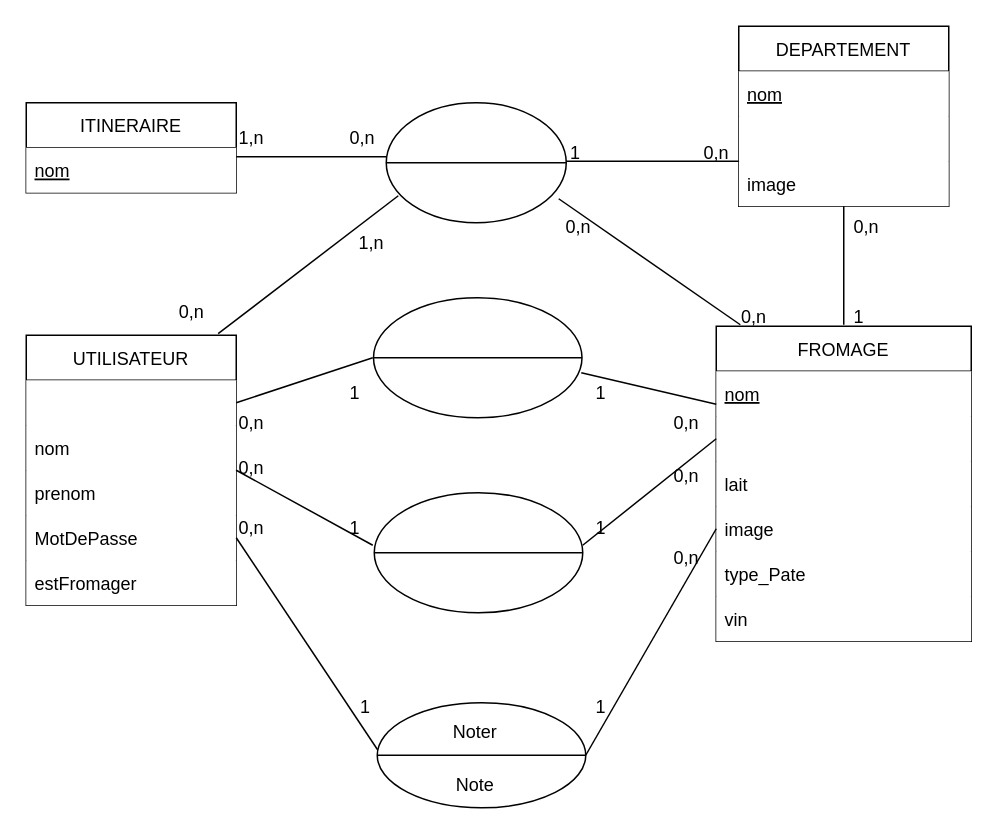
The diagram is 998 pixels wide and 834 high, and some of its shapes have lost their labels. The centre of each missing label's shape, as x and y in pixels:
"Ajouter en favoris" goes at (x=477, y=357).
"Commenter Avis" goes at (x=478, y=552).
"eMail" goes at (x=131, y=402).
"numéro" goes at (x=843, y=138).
"URLWikipédia" goes at (x=843, y=438).
"Vendre du Fromage Nom Ville" goes at (x=475, y=162).
